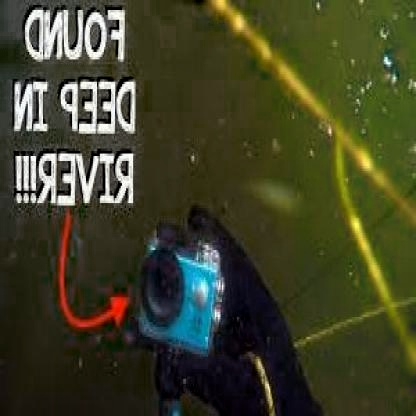electronics: (142, 226, 220, 356)
